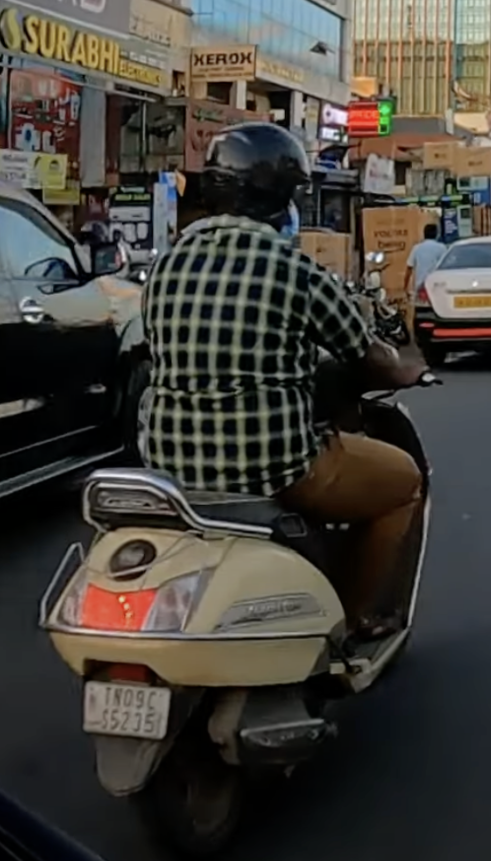motor: (45, 296, 438, 827)
number: (84, 680, 170, 738)
with helmet: (194, 118, 312, 241)
